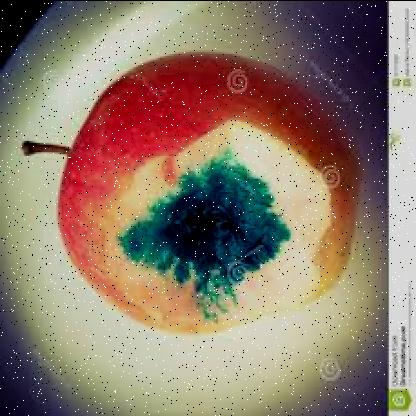damaged_apple: (57, 53, 362, 346)
